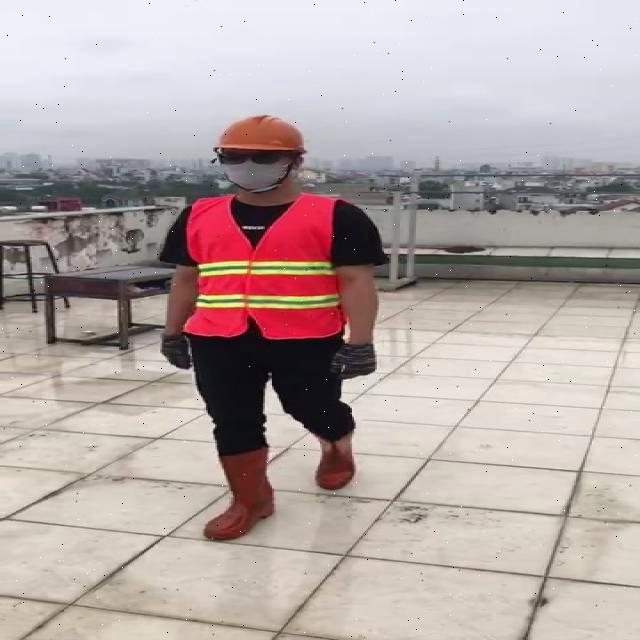Hard_hat: (208, 112, 314, 165)
Person: (153, 107, 399, 543)
Vest: (191, 190, 344, 343)
